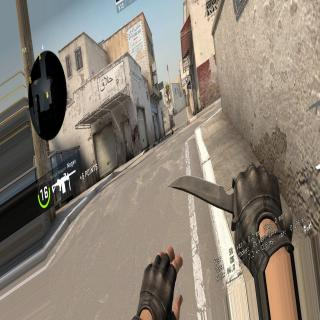CT-Body: (172, 108, 175, 117)
CT-Head: (173, 108, 174, 110)
